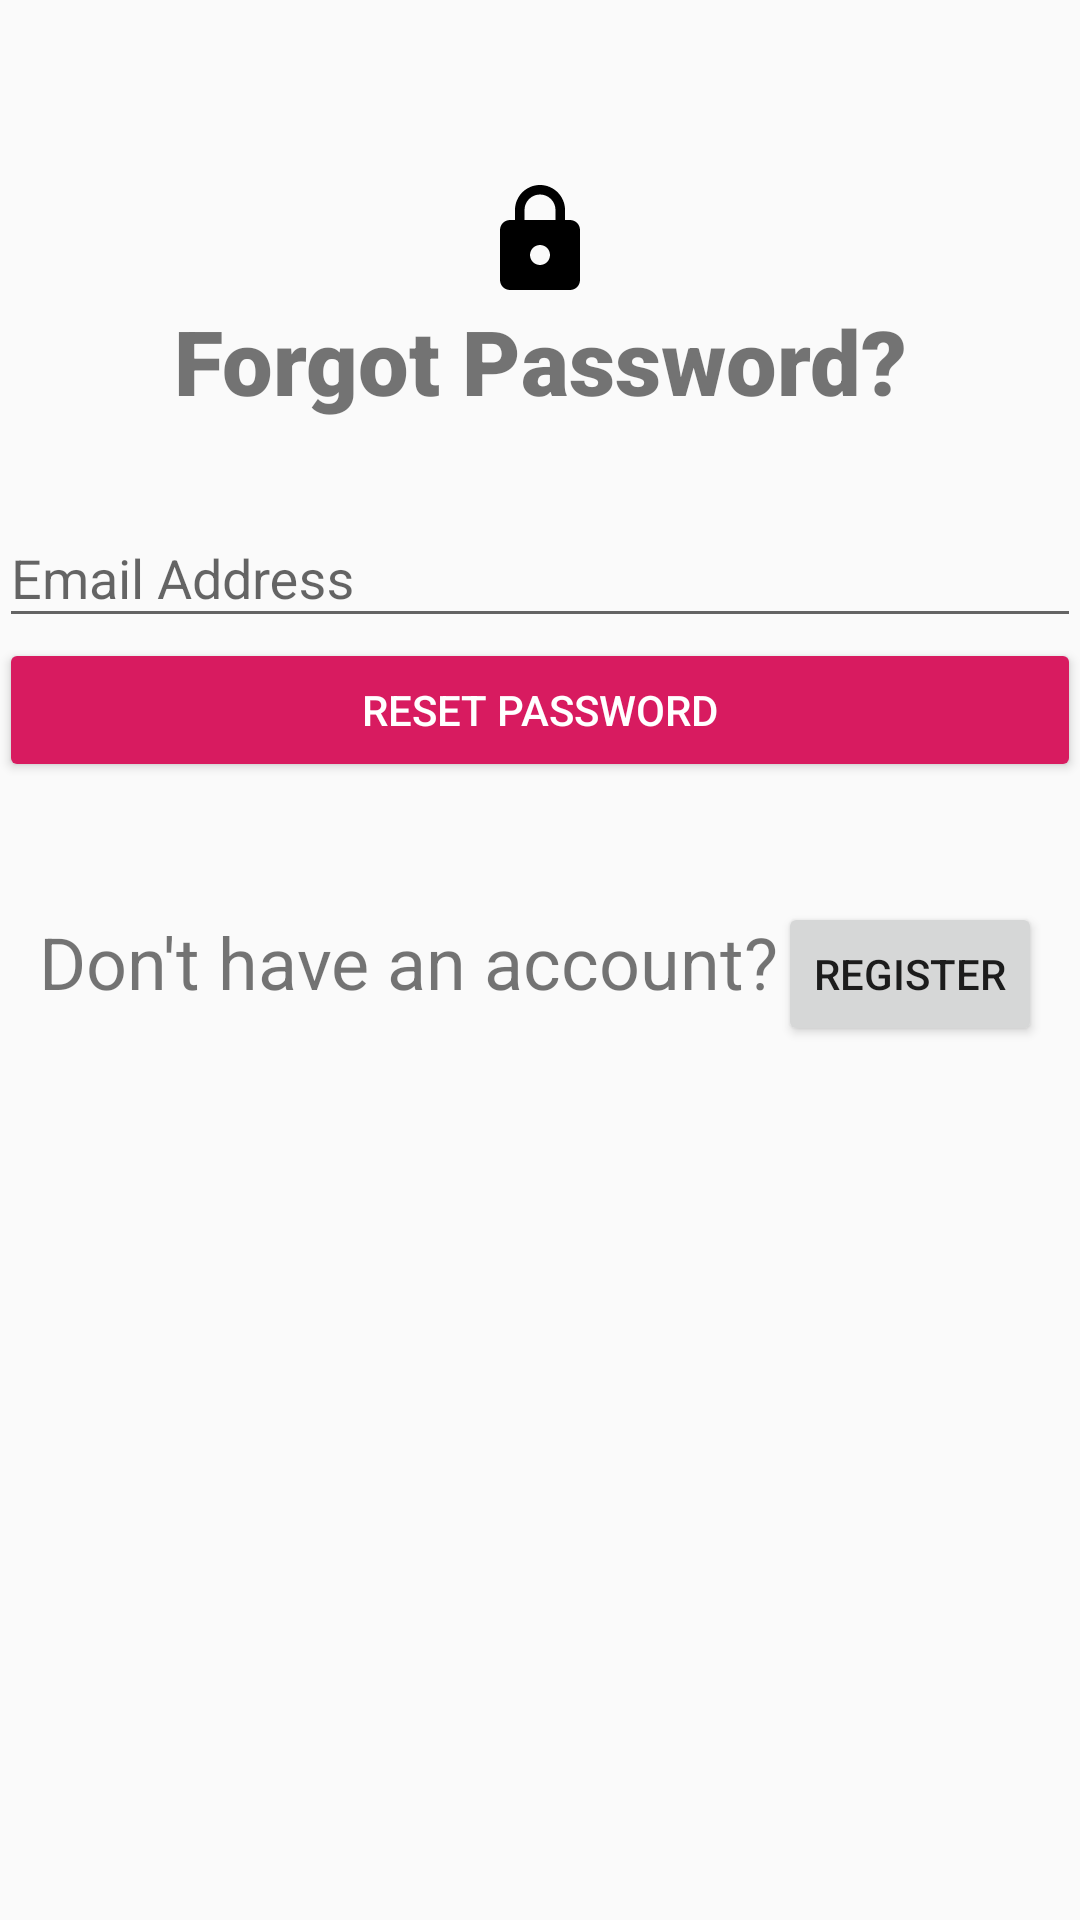

Named icons in this screenshot (1080x1920) and their centers, (x,y):
lock: (540,237)
